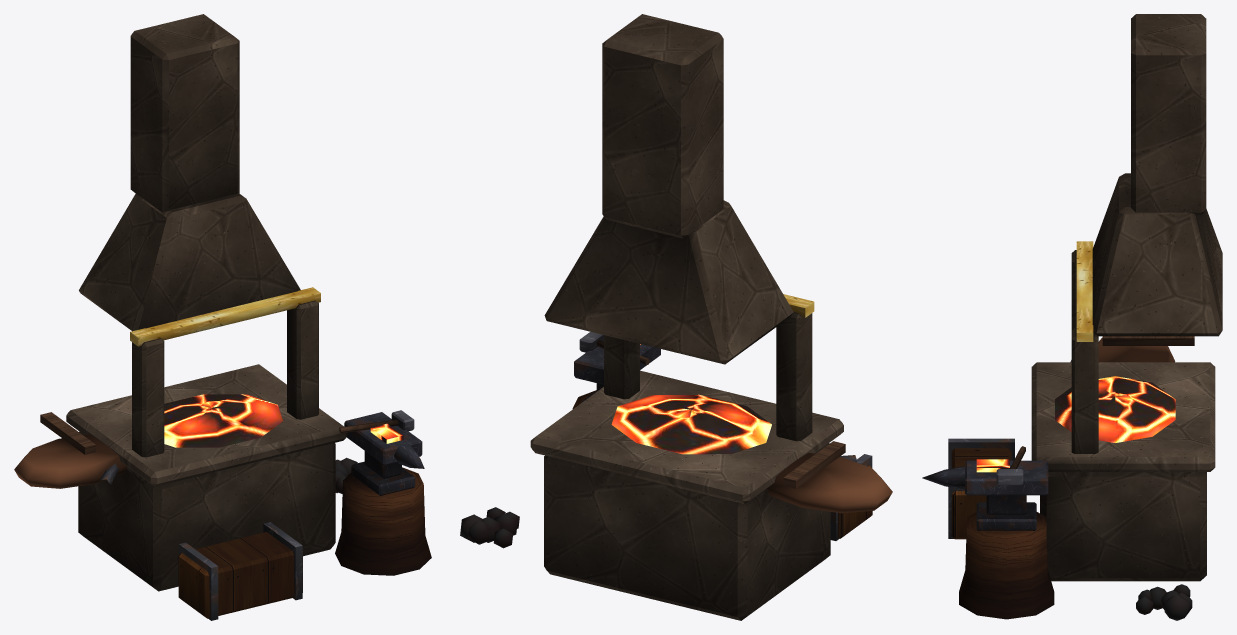
The model's file is nidavellir_forge.glb.
3 views of the same model, side by side, from view 1: azimuth 30°, elevation 25°; view 2: azimuth 150°, elevation 25°; view 3: azimuth 270°, elevation 25° (orthographic). The views are drawn at different scales.
Parts seen in each view (by area): view 1: nidavellir_forge; view 2: nidavellir_forge; view 3: nidavellir_forge.
Boxes of the visible parts, left/top/right/bottom form: nidavellir_forge: left=14, top=14, right=431, bottom=620; nidavellir_forge: left=460, top=14, right=892, bottom=620; nidavellir_forge: left=922, top=14, right=1222, bottom=620.
Bounding box in the file's own units: 2.55 × 3.35 × 1.8.
9 materials, 6 textured.
